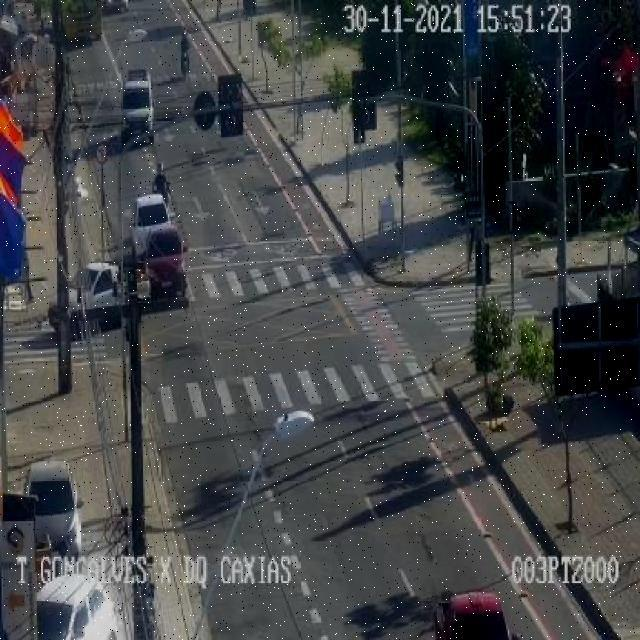Car: (36, 267, 138, 341), (23, 460, 84, 560), (131, 194, 188, 300), (36, 573, 126, 639), (432, 590, 518, 638), (121, 69, 155, 148), (102, 1, 131, 14)
